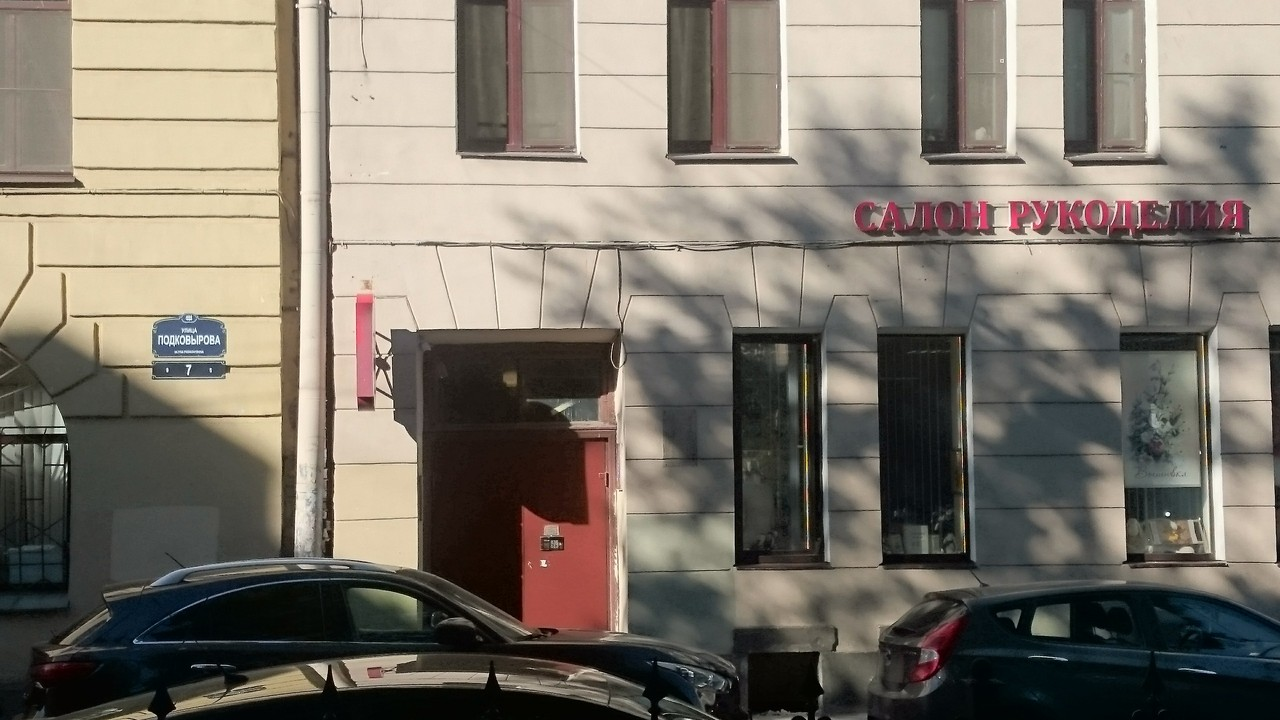cantilever: (356, 292, 387, 414)
door: (422, 434, 607, 629)
window: (1116, 328, 1212, 559), (732, 332, 828, 560), (876, 332, 968, 557), (458, 1, 579, 157), (667, 1, 776, 157), (425, 342, 609, 426), (1060, 1, 1152, 155), (922, 1, 1011, 152)
